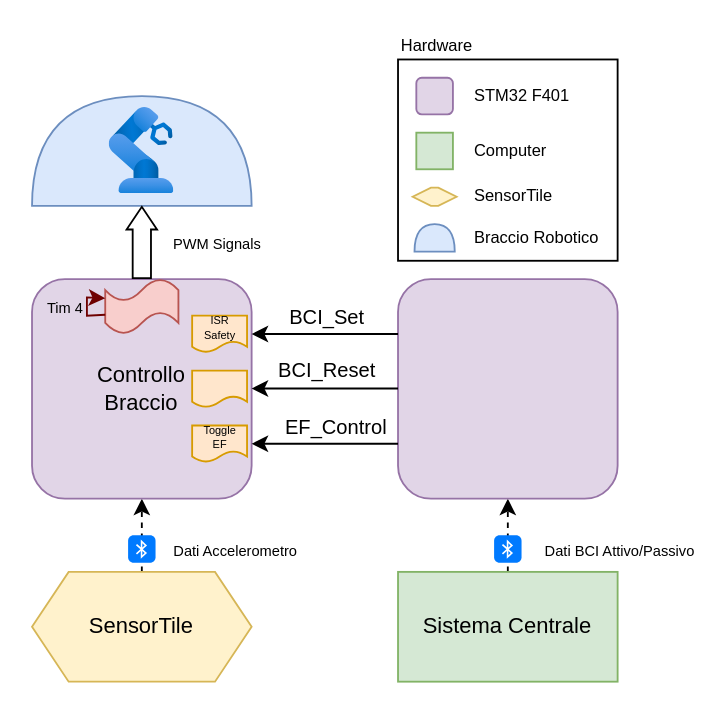
Some shapes in this 725 by 714 pixel diagram are drawn without their labels. The centre of each missing label's shape, as x and y in pixels:
"Arm Control" belongs at [140,305].
"Comunicazione BCI" belongs at [507,388].
"ISR Recovery" belongs at [218,388].
